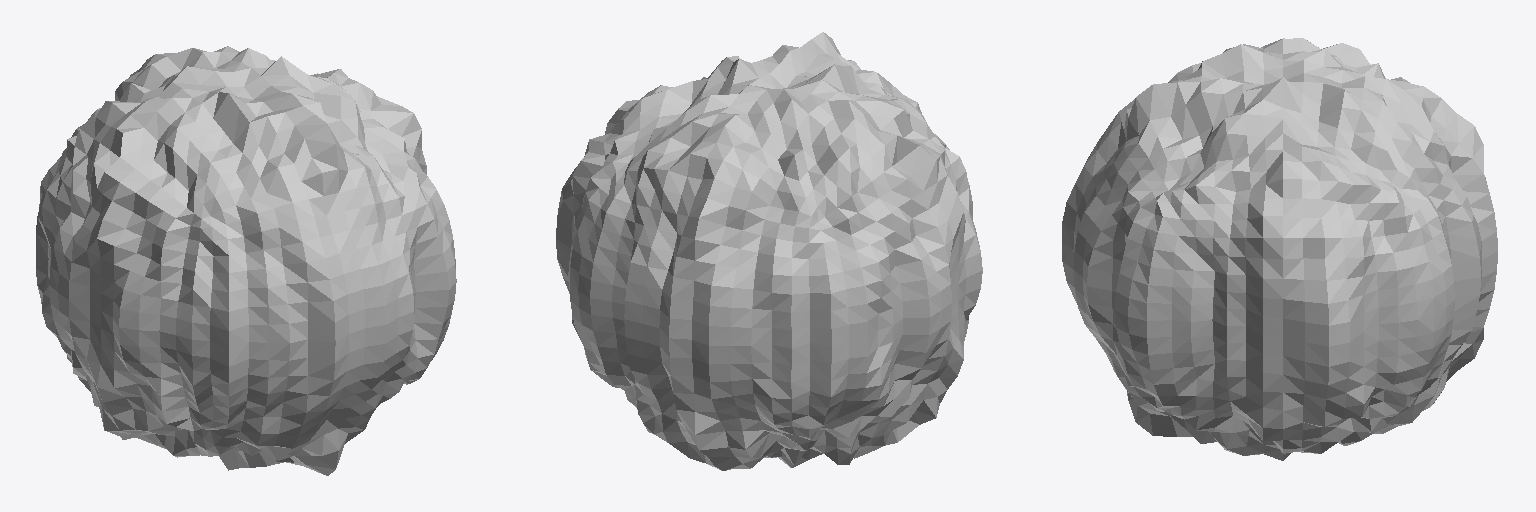
The model's file is asteroid17.obj.
The picture shows the model from 3 angles: view 1: azimuth 30°, elevation 25°; view 2: azimuth 150°, elevation 25°; view 3: azimuth 270°, elevation 25°; orthographic projection.
Visible parts, largest first — view 1: Cube_Cube.002; view 2: Cube_Cube.002; view 3: Cube_Cube.002.
Boxes of the visible parts, x1=… form: Cube_Cube.002: x1=36, y1=46, x2=456, y2=475; Cube_Cube.002: x1=556, y1=32, x2=982, y2=470; Cube_Cube.002: x1=1062, y1=38, x2=1497, y2=460.
Bounding box in the file's own units: 1.81 × 1.79 × 1.84.